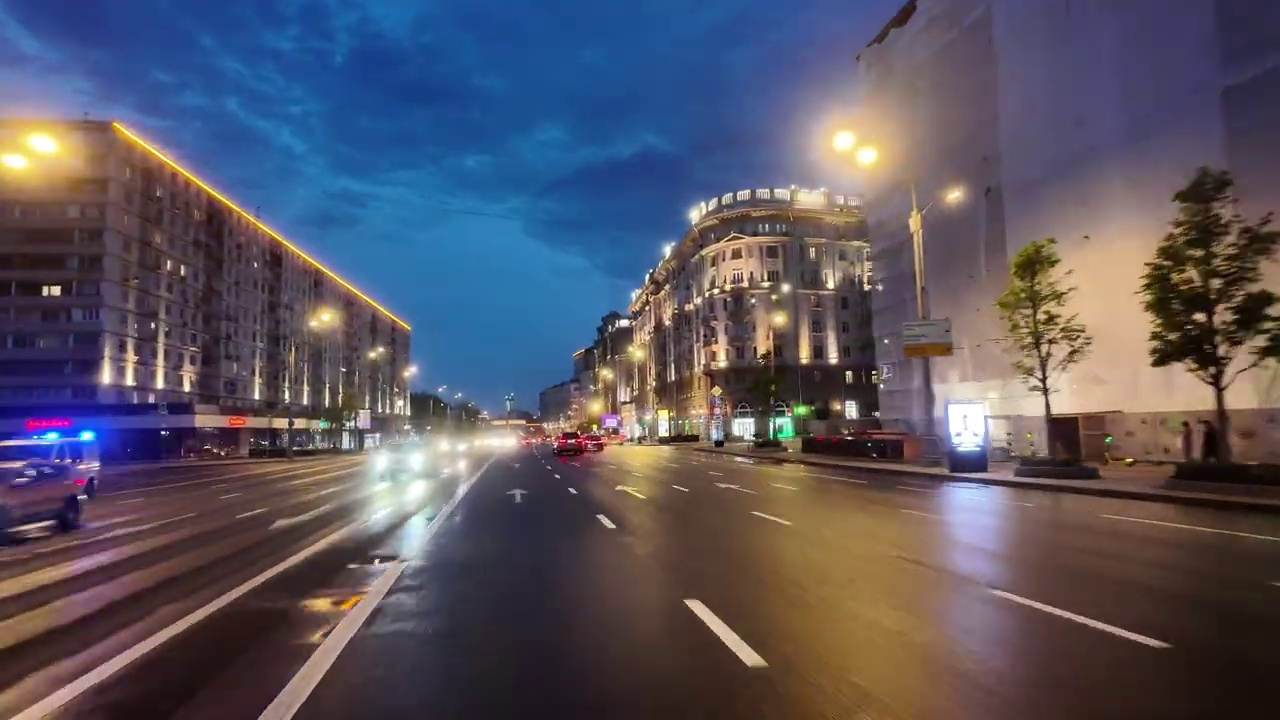acesa: (8, 126, 69, 171), (828, 125, 885, 172), (308, 306, 339, 332), (939, 182, 966, 208), (113, 122, 139, 149)
